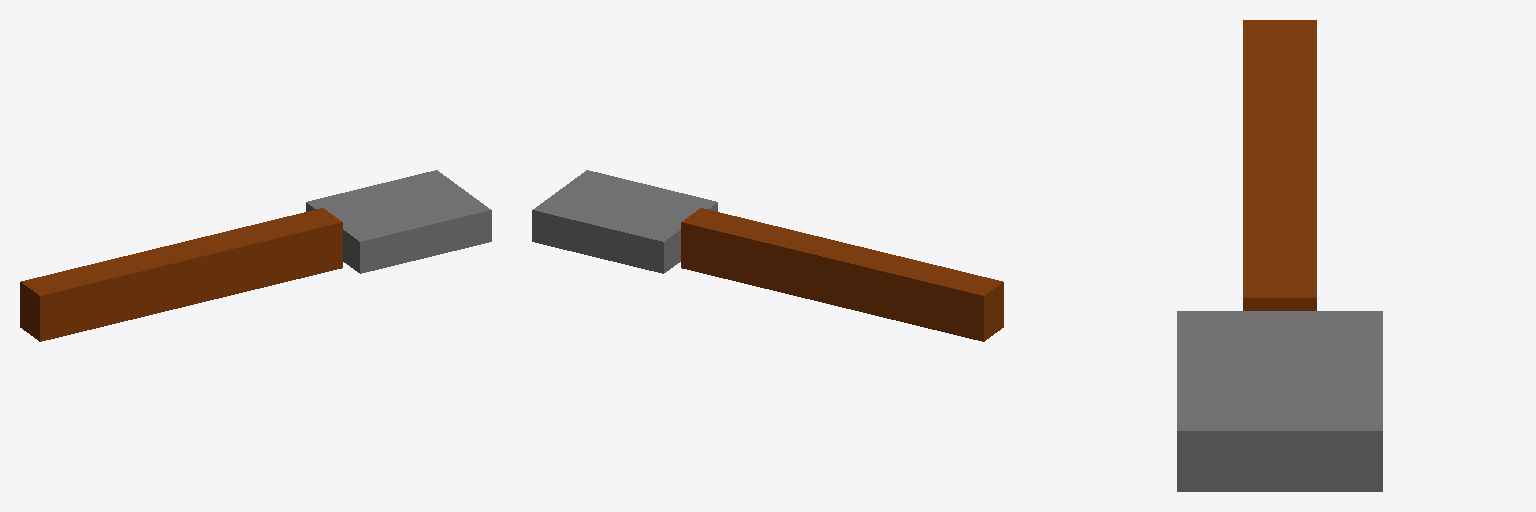
robot.urdf — handle_head:
<?xml version="1.0"?>
<robot name="handle_head">

  <link name="handle_head">
    <!-- Handle -->
    <visual>
              <origin xyz="0 0 0" rpy="0 0 0"/>
        <geometry>
          <box size="0.15372776140982827 0.017324822538769408 0.02232986971635504"/>
        </geometry>
        
      <material name="brown">
        <color rgba="0.55 0.27 0.07 1.0"/>
      </material>
    </visual>
    <collision>
              <origin xyz="0 0 0" rpy="0 0 0"/>
        <geometry>
          <box size="0.15372776140982827 0.017324822538769408 0.02232986971635504"/>
        </geometry>
        
    </collision>

    <!-- Head -->
    <visual>
              <origin xyz="0.11022693709837925 0 0" rpy="0 0 0"/>
        <geometry>
          <box size="0.0667261127869302 0.04811015737250679 0.015527043061295546"/>
        </geometry>
        
      <material name="gray">
        <color rgba="0.5 0.5 0.5 1.0"/>
      </material>
    </visual>
    <collision>
              <origin xyz="0.11022693709837925 0 0" rpy="0 0 0"/>
        <geometry>
          <box size="0.0667261127869302 0.04811015737250679 0.015527043061295546"/>
        </geometry>
        
    </collision>

    <inertial>
      <origin xyz="0.044544005138709895 0 0" rpy="0 0 0"/>
      <mass value="0.047687877472210885"/>
      <inertia ixx="5.995789211465512e-06" iyy="0.0002042048232986154" izz="0.00020706473280407303" ixy="0" ixz="0" iyz="0"/>
    </inertial>
  </link>

</robot>

--- Render facts (derived) ---
Views: 3 orthographic renders of the robot side by side, from view 1: azimuth 30°, elevation 25°; view 2: azimuth 150°, elevation 25°; view 3: azimuth 270°, elevation 25°.
Robot: handle_head — 1 links, 0 joints (none); root link handle_head; default pose: all joints at 0.
Links seen in each view (by area): view 1: handle_head; view 2: handle_head; view 3: handle_head.
Link boxes in pixels (left/top/right/bottom): handle_head: left=20, top=170, right=491, bottom=341; handle_head: left=532, top=170, right=1003, bottom=341; handle_head: left=1177, top=20, right=1382, bottom=491.
Bounding box of the posed robot: 0.2205 × 0.0481 × 0.0223 m (x, y, z).
Geometry: primitives only (box / cylinder / sphere), no mesh files.
